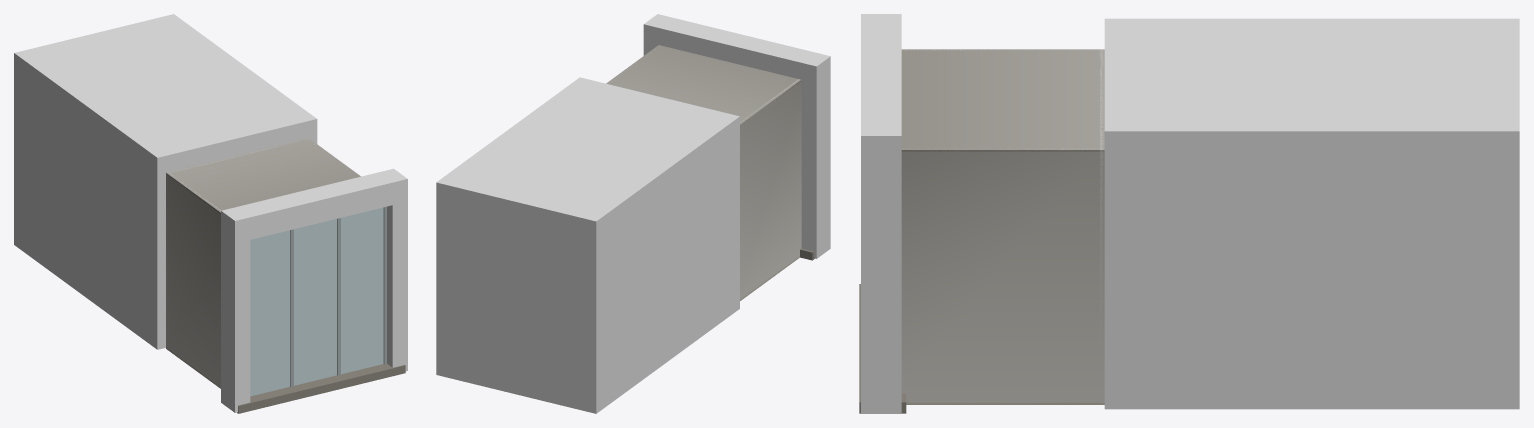
The model's file is tret_tiem_thuoc_32.glb.
3 views of the same model, side by side, from view 1: azimuth 30°, elevation 25°; view 2: azimuth 150°, elevation 25°; view 3: azimuth 270°, elevation 25° (orthographic). The views are drawn at different scales.
Parts seen in each view (by area): view 1: tret_tiem_thuoc_32; view 2: tret_tiem_thuoc_32; view 3: tret_tiem_thuoc_32.
Boxes of the visible parts, box(x1,y1,x2,y2) form: tret_tiem_thuoc_32: box(14, 14, 407, 413); tret_tiem_thuoc_32: box(436, 14, 830, 413); tret_tiem_thuoc_32: box(859, 14, 1519, 413).
Bounding box in the file's own units: 3.2 × 3.42 × 7.32.
